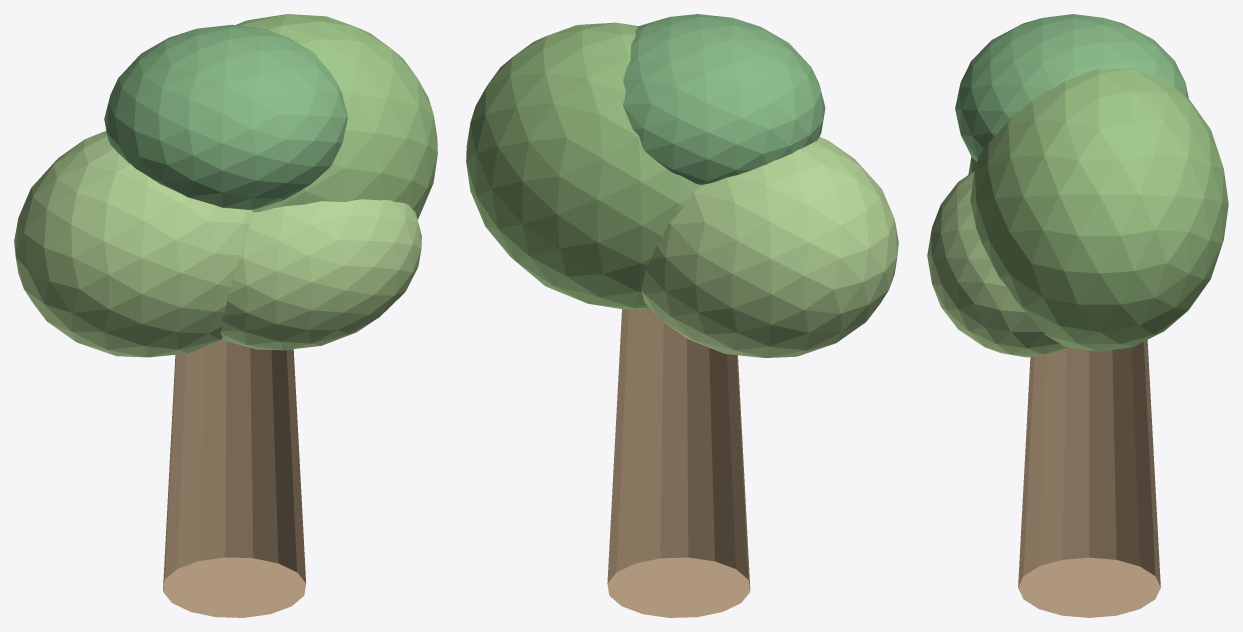
The model's file is tree_round_medium.glb.
3 renders of one model, left to right at view 1: azimuth 30°, elevation 25°; view 2: azimuth 150°, elevation 25°; view 3: azimuth 270°, elevation 25°, orthographic.
Visible parts, largest first — view 1: tree_round_medium_01_crown, tree_round_medium_00_trunk, tree_round_medium_03_crown, tree_round_medium_04_crown, tree_round_medium_02_crown; view 2: tree_round_medium_02_crown, tree_round_medium_01_crown, tree_round_medium_00_trunk, tree_round_medium_03_crown; view 3: tree_round_medium_02_crown, tree_round_medium_00_trunk, tree_round_medium_03_crown, tree_round_medium_04_crown.
Boxes of the visible parts, x1,y1,x2,y2 form: tree_round_medium_01_crown: (14,131,253,357); tree_round_medium_00_trunk: (163,340,306,617); tree_round_medium_03_crown: (104,24,347,209); tree_round_medium_04_crown: (220,199,421,350); tree_round_medium_02_crown: (236,14,437,219); tree_round_medium_02_crown: (466,22,700,309); tree_round_medium_01_crown: (641,137,898,357); tree_round_medium_00_trunk: (607,309,750,617); tree_round_medium_03_crown: (623,14,825,184); tree_round_medium_02_crown: (970,68,1228,351); tree_round_medium_00_trunk: (1018,340,1160,617); tree_round_medium_03_crown: (955,14,1188,161); tree_round_medium_04_crown: (927,171,1068,357).
Bounding box in the file's own units: 2.26 × 2.99 × 1.49.
